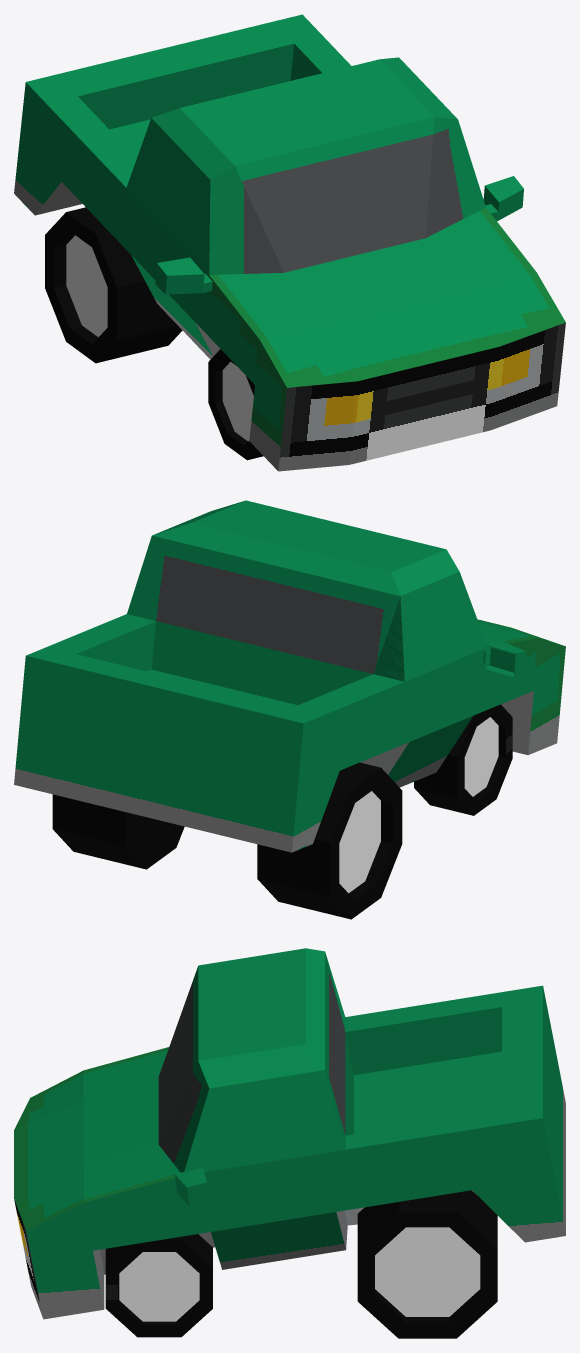
The model's file is Truck.gltf.
The picture shows the model from 3 angles, top to bottom: view 1: azimuth 30°, elevation 25°; view 2: azimuth 150°, elevation 25°; view 3: azimuth 270°, elevation 25°; orthographic projection. The views are drawn at different scales.
Parts seen in each view (by area): view 1: body, cylinder (×2), retro_right, retro_left; view 2: body, cylinder (×3), retro_right; view 3: body, cylinder (×2), retro_left.
Part boxes in pixels (<box>): body: <box>14,14,565,471</box>; cylinder (×2): <box>45,207,263,460</box>; retro_right: <box>155,257,212,294</box>; retro_left: <box>483,176,523,221</box>; body: <box>14,500,565,852</box>; cylinder (×3): <box>52,704,512,919</box>; retro_right: <box>483,640,525,677</box>; body: <box>14,948,565,1319</box>; cylinder (×2): <box>105,1190,497,1338</box>; retro_left: <box>174,1168,210,1206</box>.
Bounding box in the file's own units: 0.7656 × 0.5836 × 1.05.
Materials: 1 (1 with a texture image).
